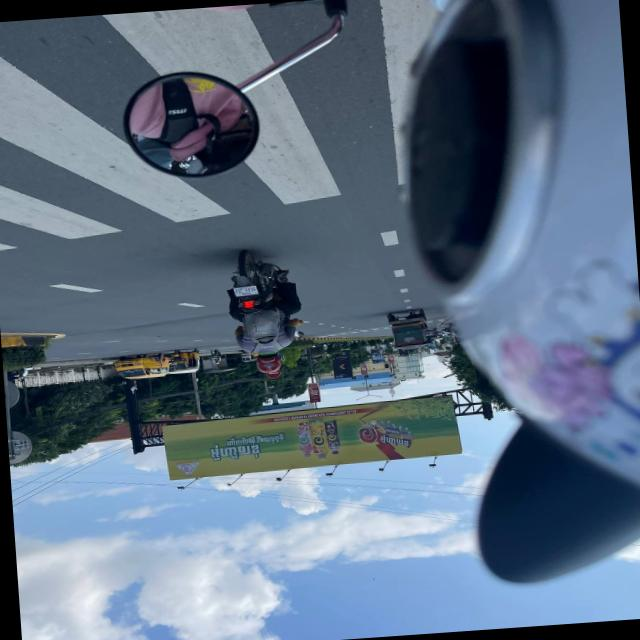1: (223, 431, 287, 446)
Yolov11kh: (207, 442, 262, 463), (378, 433, 411, 450)
